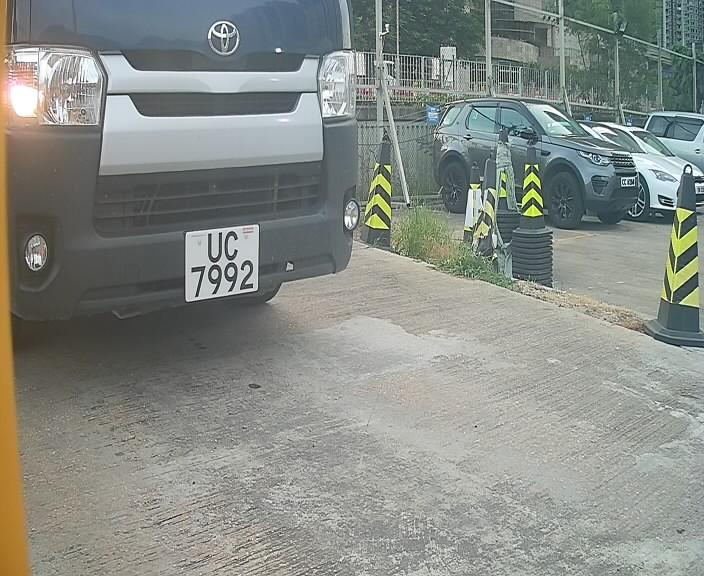License Plate: (173, 222, 271, 309)
